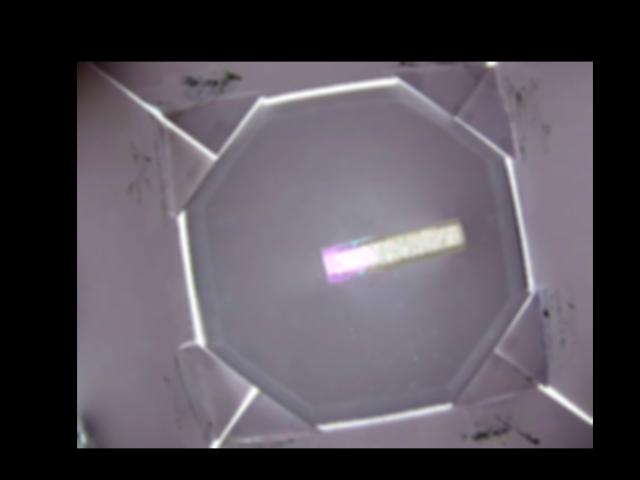Bottle: (319, 215, 468, 287)
